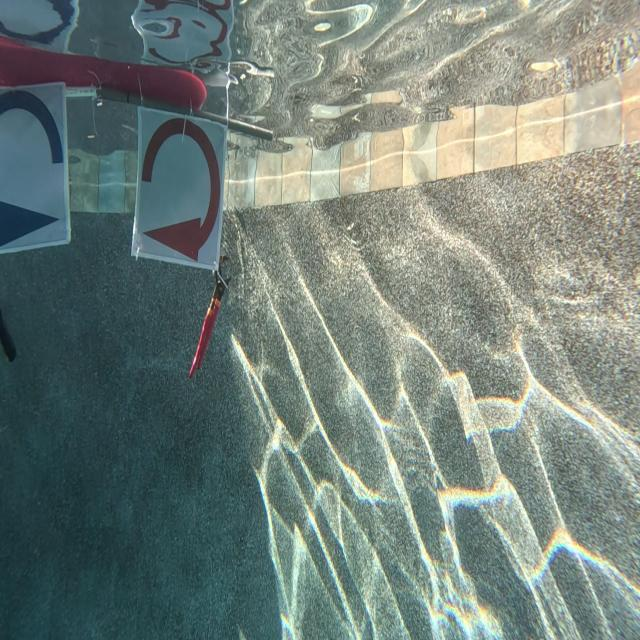blue_side: (0, 89, 65, 245)
red_side: (132, 113, 220, 266)
